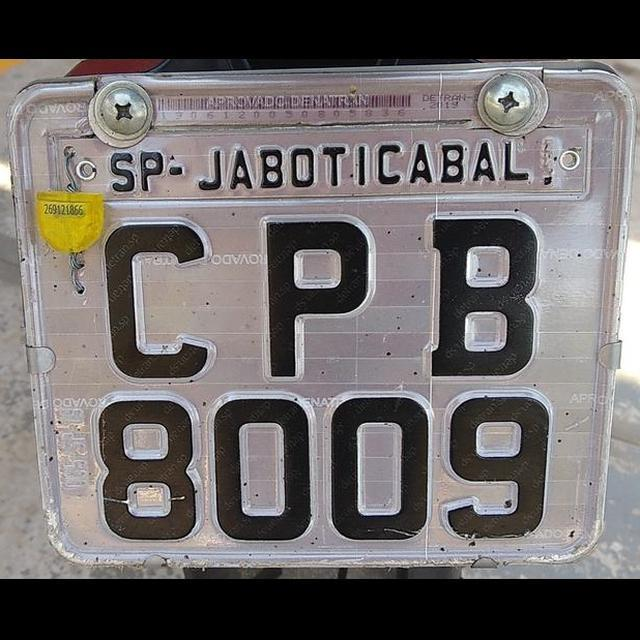Caractere: (422, 210, 548, 382), (261, 212, 379, 382), (104, 215, 216, 382), (440, 386, 556, 544), (94, 391, 204, 549), (325, 390, 435, 544), (212, 388, 316, 544)
Placa: (9, 66, 637, 568)
